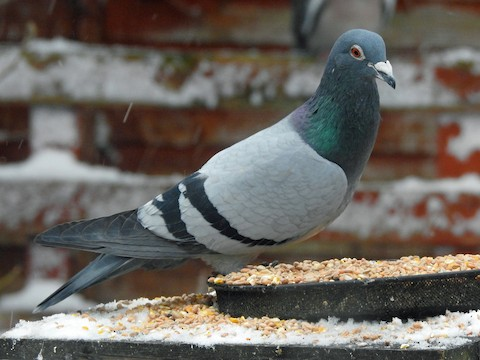pigeon: (27, 26, 398, 321)
